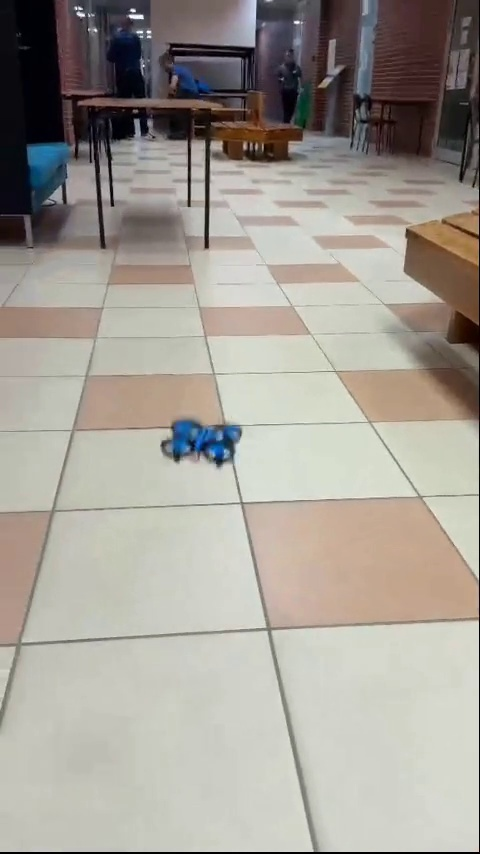drone: (161, 421, 237, 466)
no vest: (107, 9, 152, 102), (158, 52, 209, 99), (276, 43, 304, 127)
